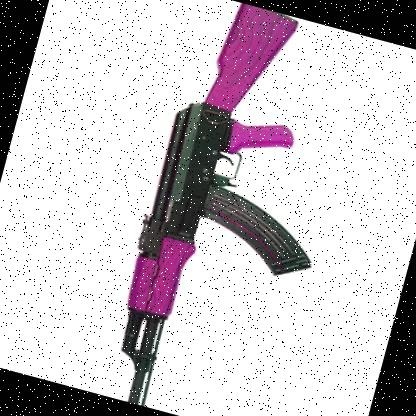rifle: (63, 0, 379, 416)
